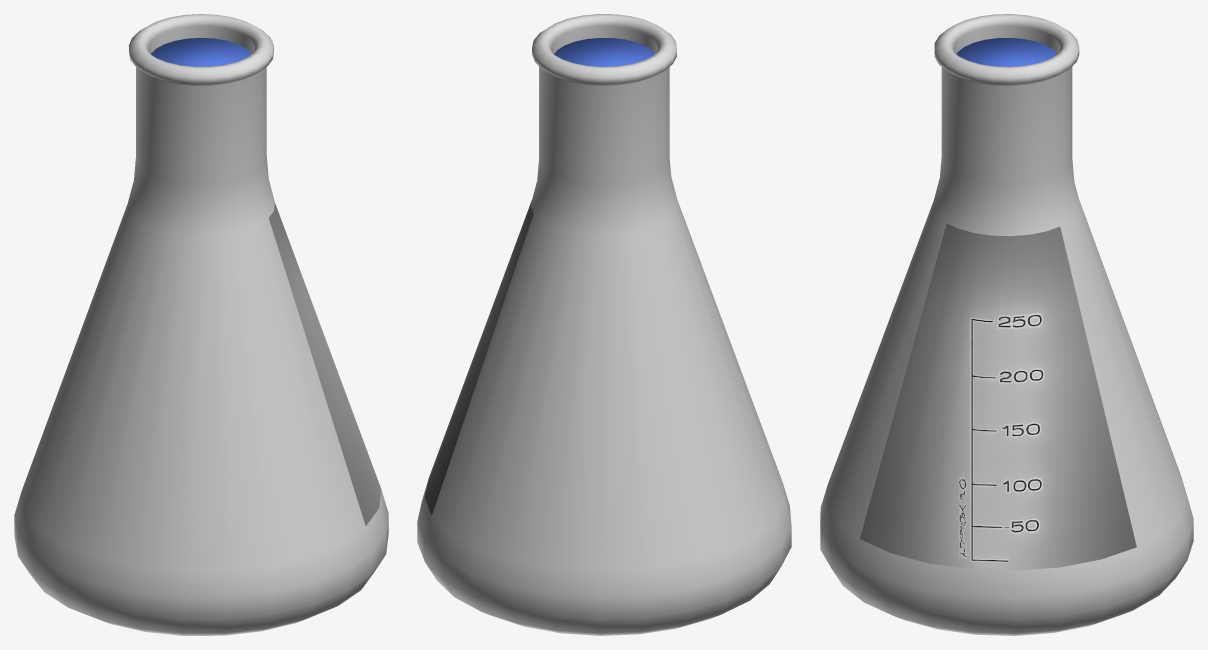
Rendered from 250ml_flask.fbx.
3 views of the same model, side by side, from view 1: azimuth 30°, elevation 25°; view 2: azimuth 150°, elevation 25°; view 3: azimuth 270°, elevation 25° (orthographic).
Visible parts, largest first — view 1: Conical_flask_250ml_glas, Conical_flask_250ml_text, Conical_flask_250ml_liquid_mesh; view 2: Conical_flask_250ml_glas, Conical_flask_250ml_text, Conical_flask_250ml_liquid_mesh; view 3: Conical_flask_250ml_glas, Conical_flask_250ml_text, Conical_flask_250ml_liquid_mesh.
Part boxes in pixels (bbox=[...]): Conical_flask_250ml_glas: bbox=[14, 14, 388, 635]; Conical_flask_250ml_text: bbox=[268, 203, 381, 526]; Conical_flask_250ml_liquid_mesh: bbox=[151, 38, 251, 66]; Conical_flask_250ml_glas: bbox=[417, 14, 791, 635]; Conical_flask_250ml_text: bbox=[424, 200, 533, 515]; Conical_flask_250ml_liquid_mesh: bbox=[554, 38, 654, 66]; Conical_flask_250ml_glas: bbox=[820, 14, 1193, 635]; Conical_flask_250ml_text: bbox=[860, 223, 1136, 570]; Conical_flask_250ml_liquid_mesh: bbox=[956, 38, 1056, 66].
Size of the model in its own units: 9.72 by 15.13 by 9.7.
